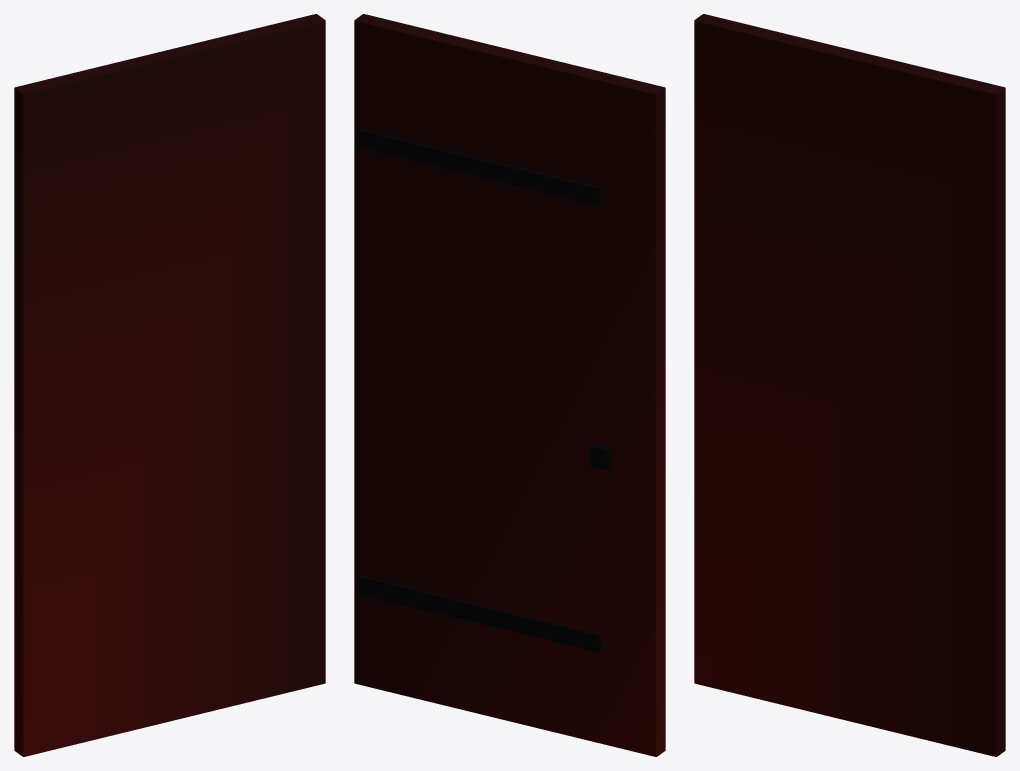
Rendered from SilverbrookGatehouse_Door3.fbx.
3 views of the same model, side by side, from view 1: azimuth 30°, elevation 25°; view 2: azimuth 150°, elevation 25°; view 3: azimuth 330°, elevation 25° (orthographic).
Visible parts, largest first — view 1: SM_SBGatehouse_Door3_Part; view 2: SM_SBGatehouse_Door3_Part; view 3: SM_SBGatehouse_Door3_Part.
Part boxes in pixels (x1,y1,x2,y2): SM_SBGatehouse_Door3_Part: (14,14,325,756); SM_SBGatehouse_Door3_Part: (354,14,665,756); SM_SBGatehouse_Door3_Part: (694,14,1005,756).
Size of the model in its own units: 110 by 230 by 8.
